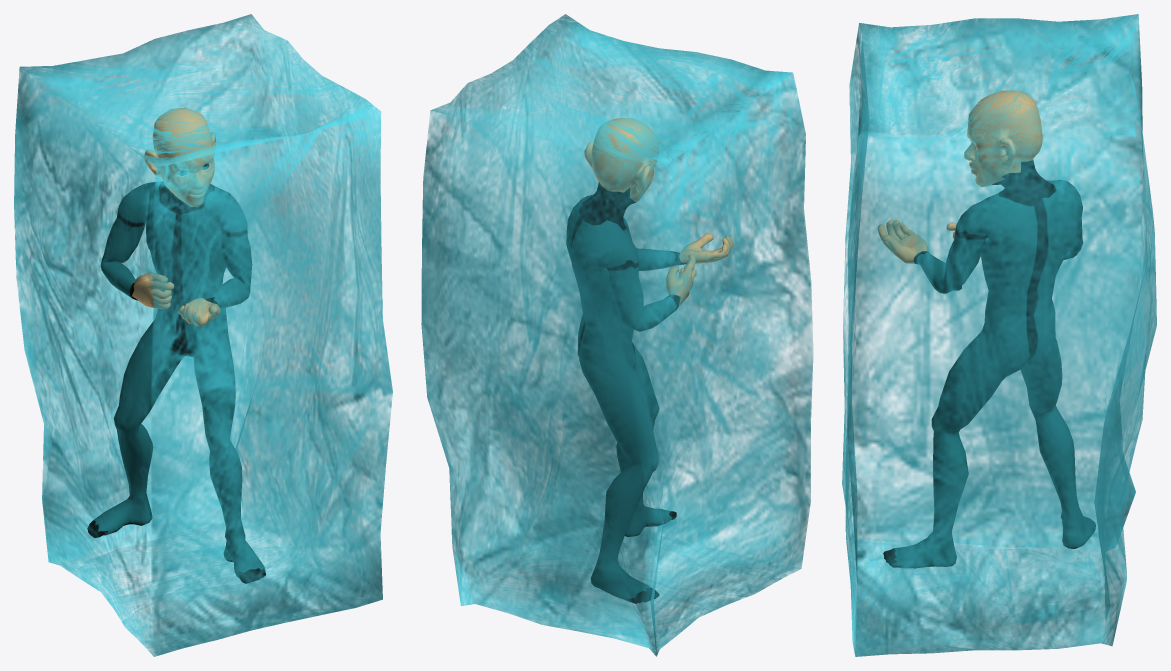
The model's file is ice_rect.glb.
The picture shows the model from 3 angles, left to right: view 1: azimuth 30°, elevation 25°; view 2: azimuth 150°, elevation 25°; view 3: azimuth 270°, elevation 25°; orthographic projection. The views are drawn at different scales.
Visible parts, largest first — view 1: standing; view 2: standing; view 3: standing.
Boxes of the visible parts, x1,y1,x2,y2 form: standing: (14,14,392,656); standing: (421,14,813,656); standing: (842,14,1156,656).
Bounding box in the file's own units: 1.11 × 1.96 × 1.07.
Materials: 3 (3 with a texture image).
